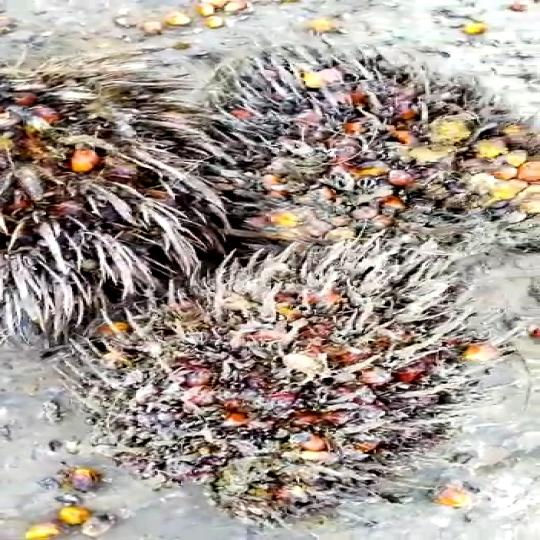terlalu masak: (65, 242, 493, 500), (188, 46, 540, 274)
